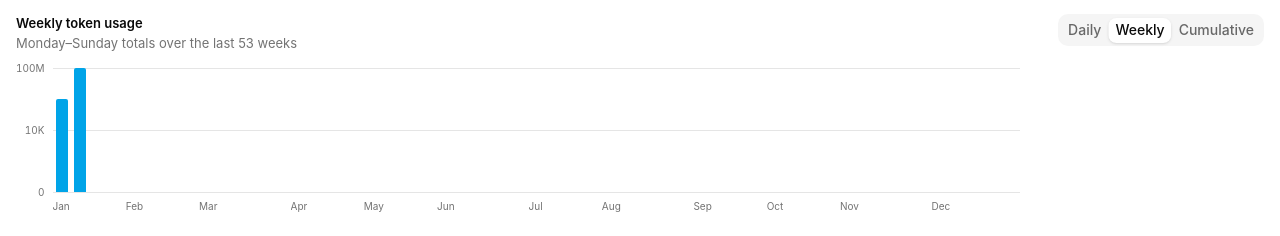
Test: switches the weekly scale through props without adding controls or changing raw Tokens
Earlier steps of the test are not shown.
Later steps or results of the test are not shown.
Expected: the button named "2026-01-05 – 2026-01-11: 1.00M Tokens" is shown, left=52, top=65, right=71, bottom=195
Click the tab "Cumulative" at (1216, 30), box left=1172, top=18, right=1261, bottom=42
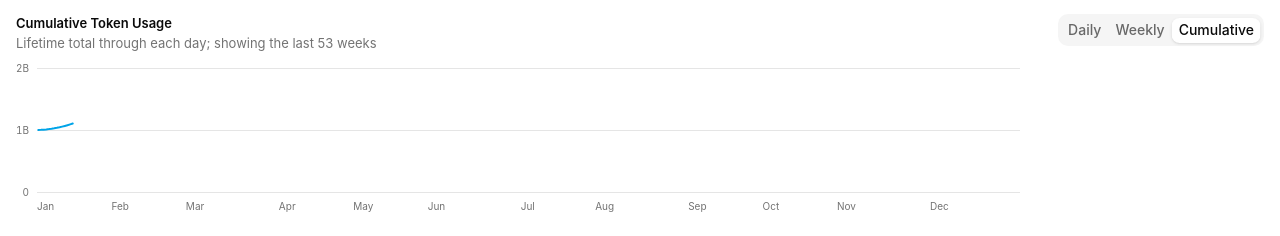
Expected: the element showing "0 1B 2B Jan Feb Mar Apr May Jun Jul Aug Sep Oct Nov Dec" has attribute data-scale="linear", left=16, top=65, right=1020, bottom=219
